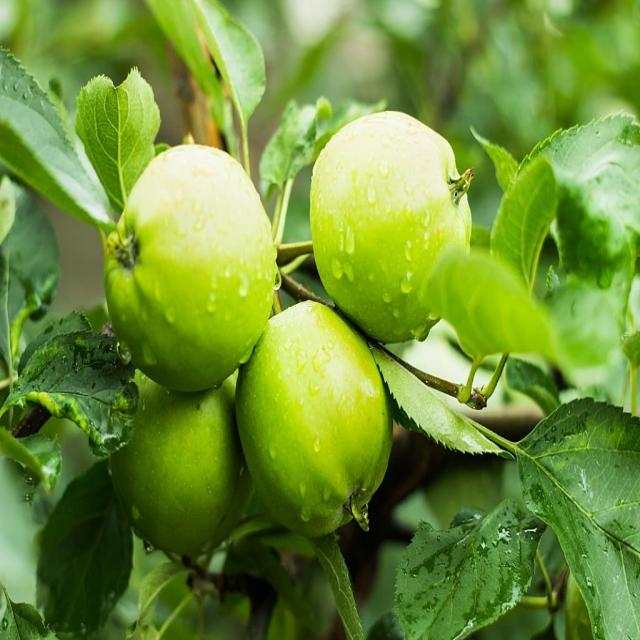Green Apple: (104, 146, 274, 384), (315, 104, 471, 340), (240, 293, 395, 530), (110, 338, 262, 544)
